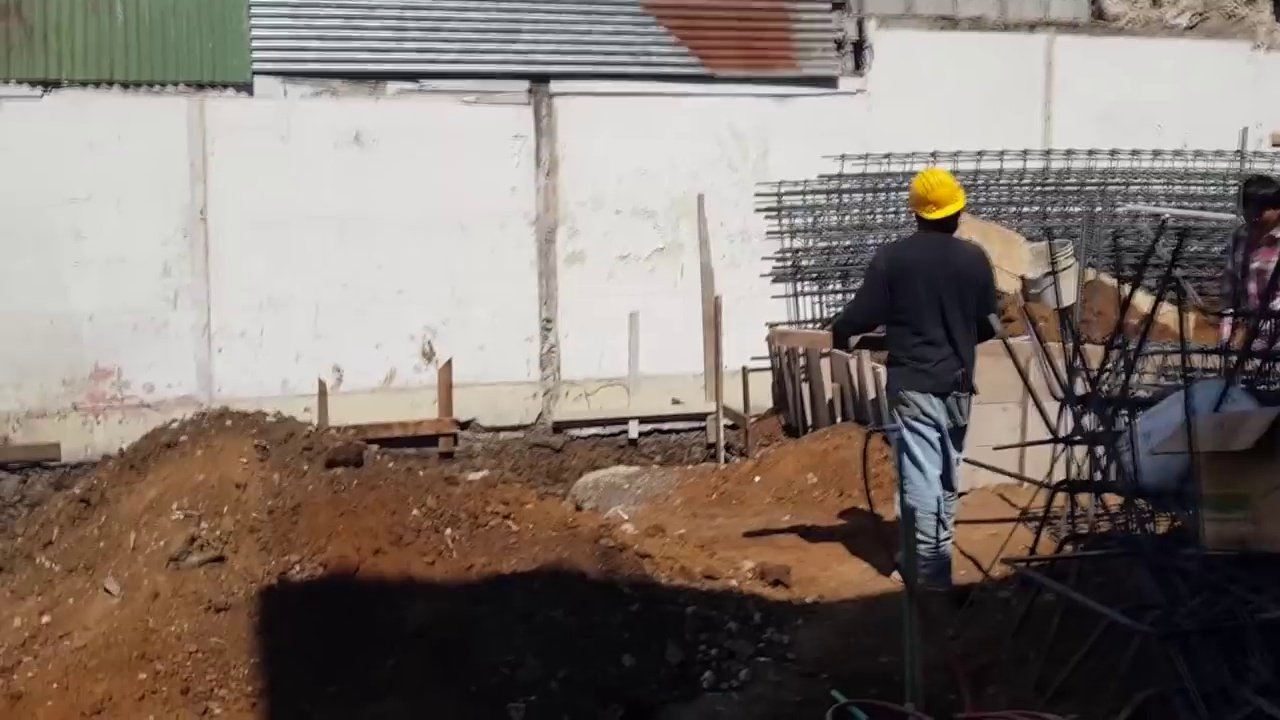helmet: (906, 166, 969, 225)
helmet-off: (1239, 172, 1280, 235)
helmet-on: (906, 165, 967, 239)
person: (832, 140, 1009, 597), (1214, 155, 1280, 410)
